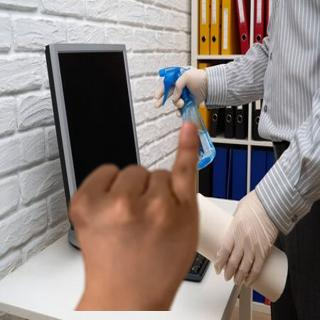FINE: (62, 117, 206, 299)
